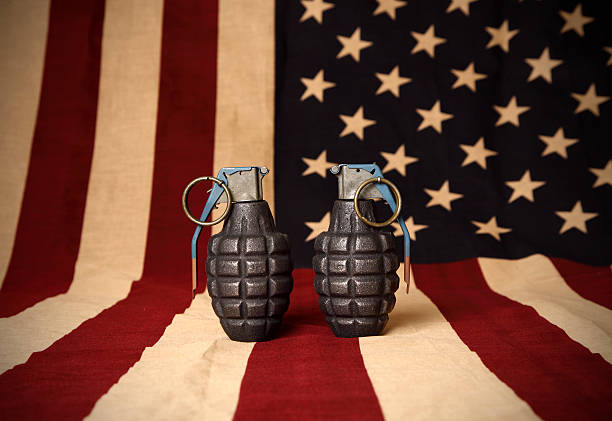e1: (181, 166, 295, 341), (310, 161, 420, 340)
